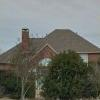Chimney: (15, 23, 32, 55)
